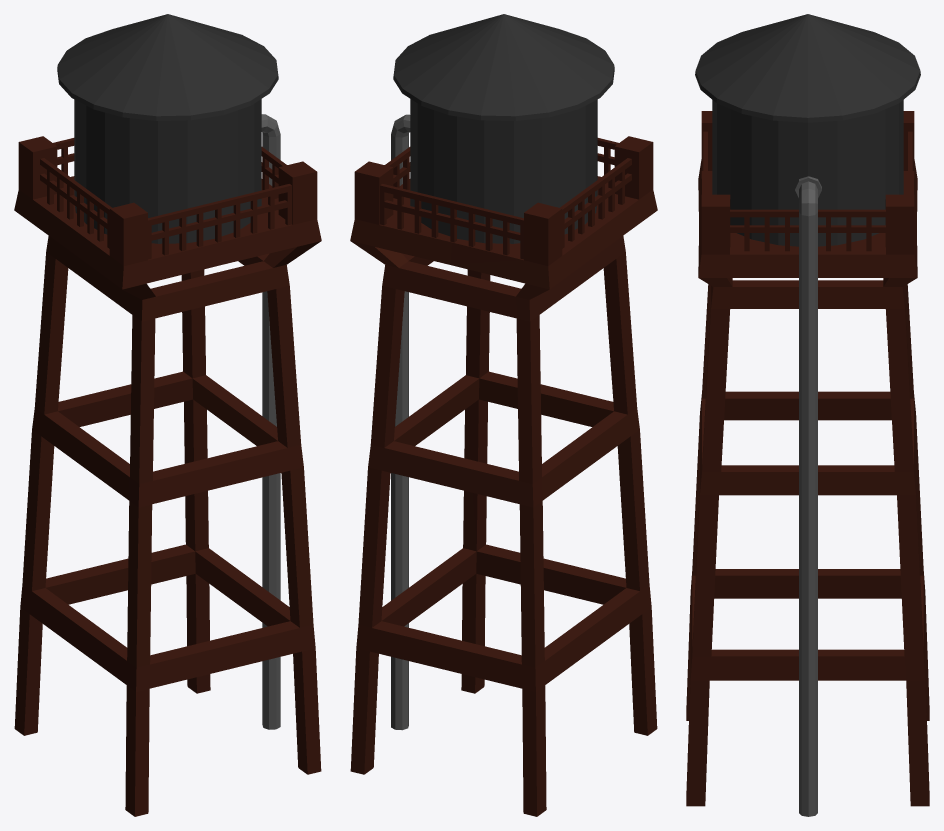
The model's file is WaterTower.obj.
The picture shows the model from 3 angles, left to right: view 1: azimuth 30°, elevation 25°; view 2: azimuth 150°, elevation 25°; view 3: azimuth 270°, elevation 25°; orthographic projection.
Parts seen in each view (by area): view 1: WaterTower; view 2: WaterTower; view 3: WaterTower.
Boxes of the visible parts, x1,y1,x2,y2 form: WaterTower: [14, 14, 321, 816]; WaterTower: [350, 14, 657, 816]; WaterTower: [686, 14, 929, 816].
Bounding box in the file's own units: 2.53 × 8.43 × 2.49.
